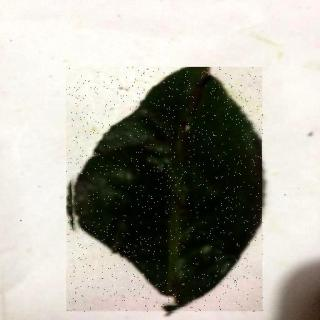Red Leaf Spot: (68, 69, 265, 314)
